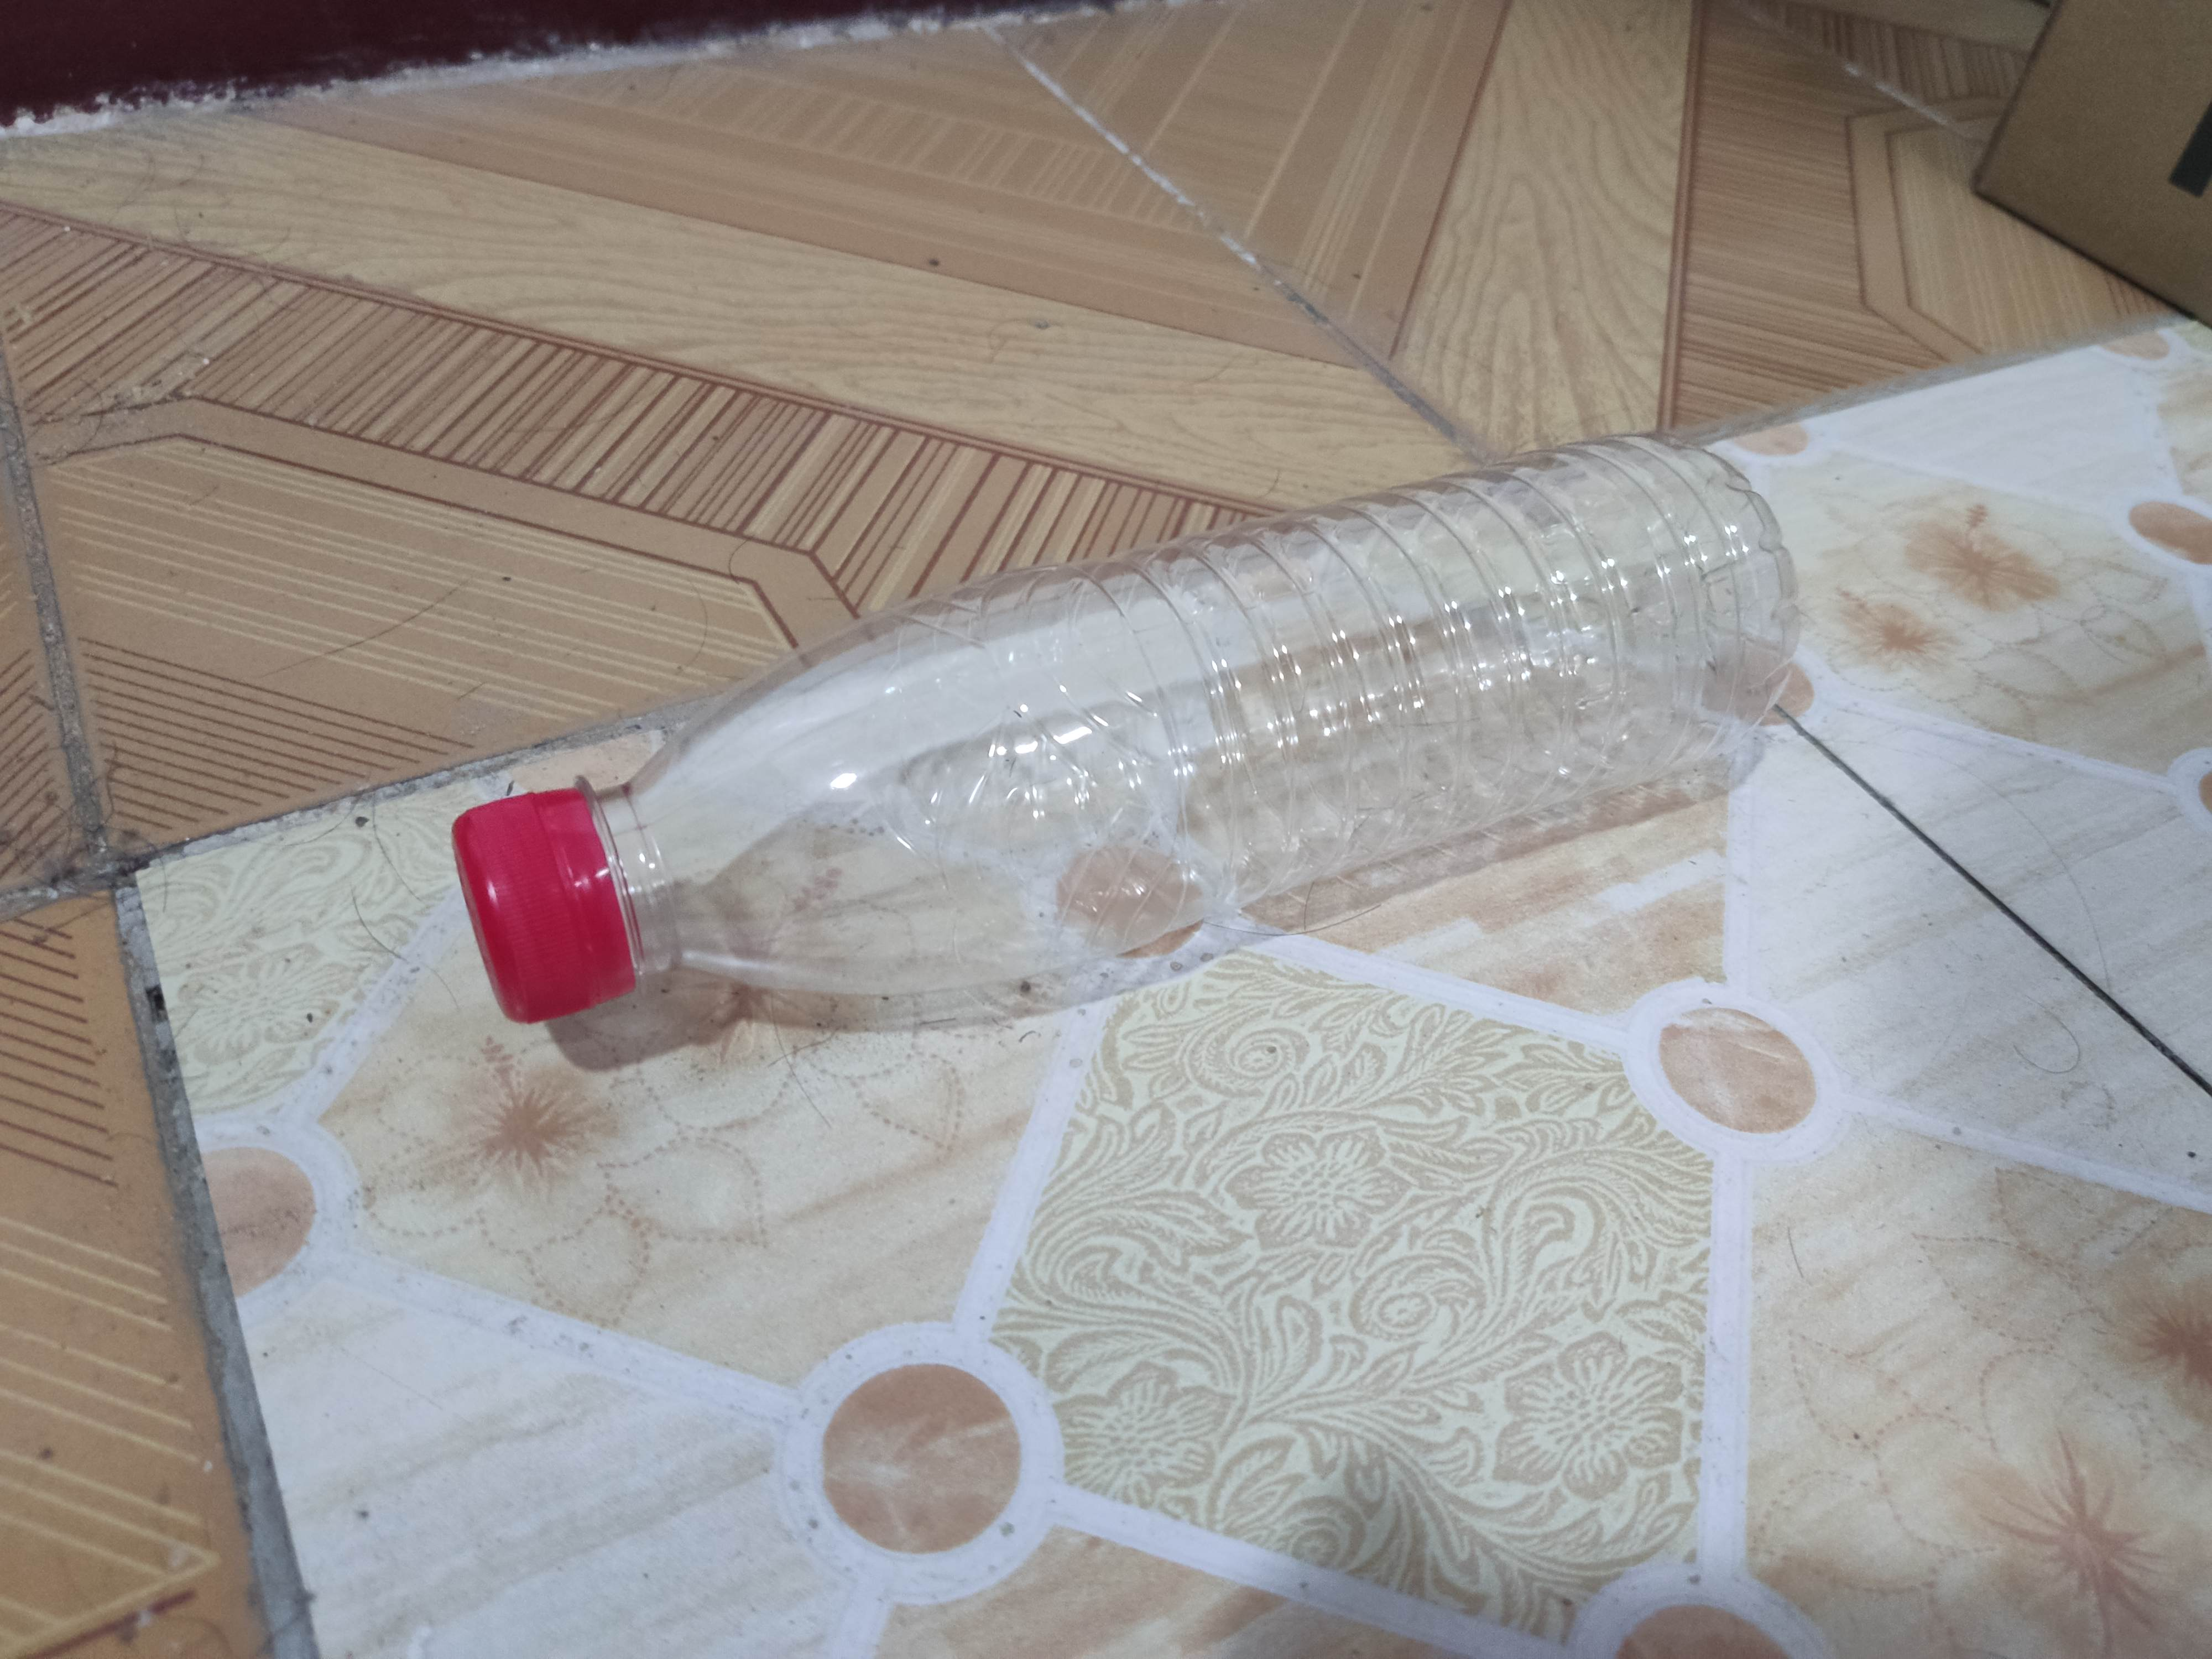Plastic Bottle: (446, 425, 1806, 1037)
